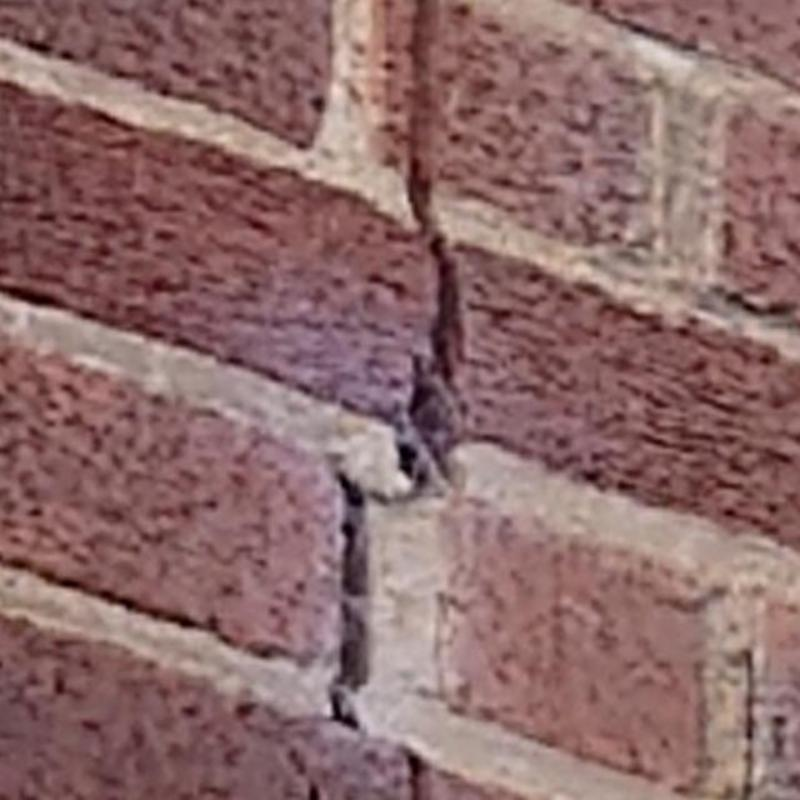pothole: (375, 0, 462, 505), (331, 475, 377, 727), (409, 752, 436, 799)
